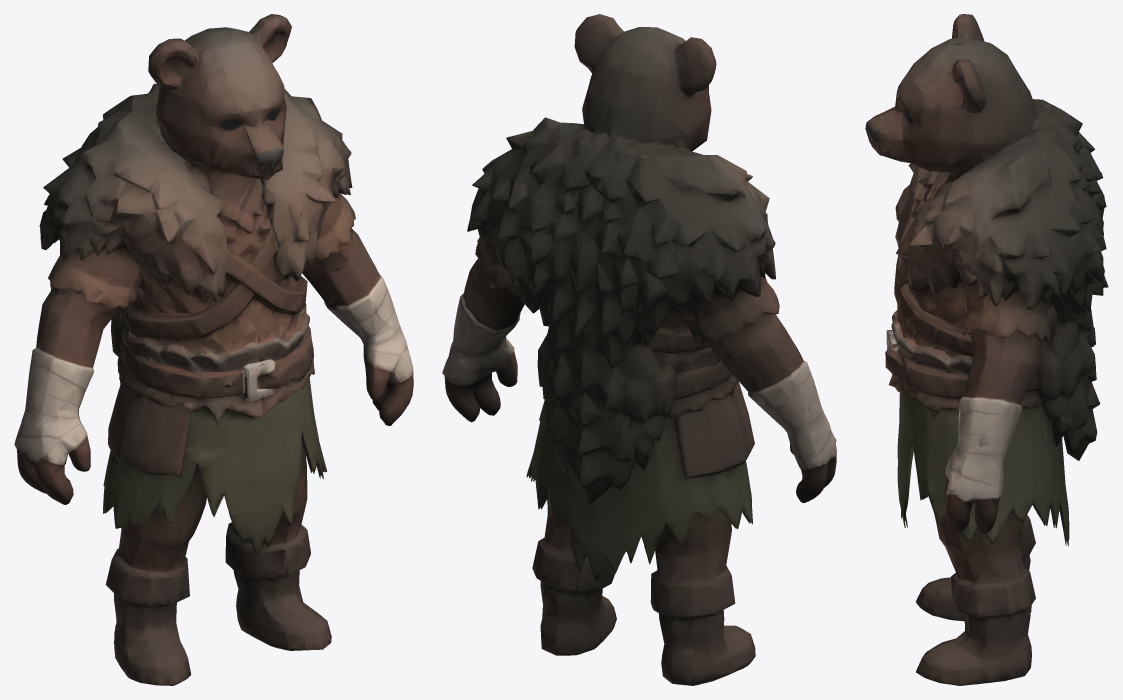
Rendered from oso.fbx.
The picture shows the model from 3 angles, left to right: view 1: azimuth 30°, elevation 25°; view 2: azimuth 150°, elevation 25°; view 3: azimuth 270°, elevation 25°; orthographic projection. The views are drawn at different scales.
Visible parts, largest first — view 1: node_0; view 2: node_0; view 3: node_0.
Part boxes in pixels (<box>): node_0: <box>14,14,413,685</box>; node_0: <box>442,14,836,685</box>; node_0: <box>865,14,1108,685</box>.
Size of the model in its own units: 73.59 by 114 by 41.71.
1 material, 1 textured.
